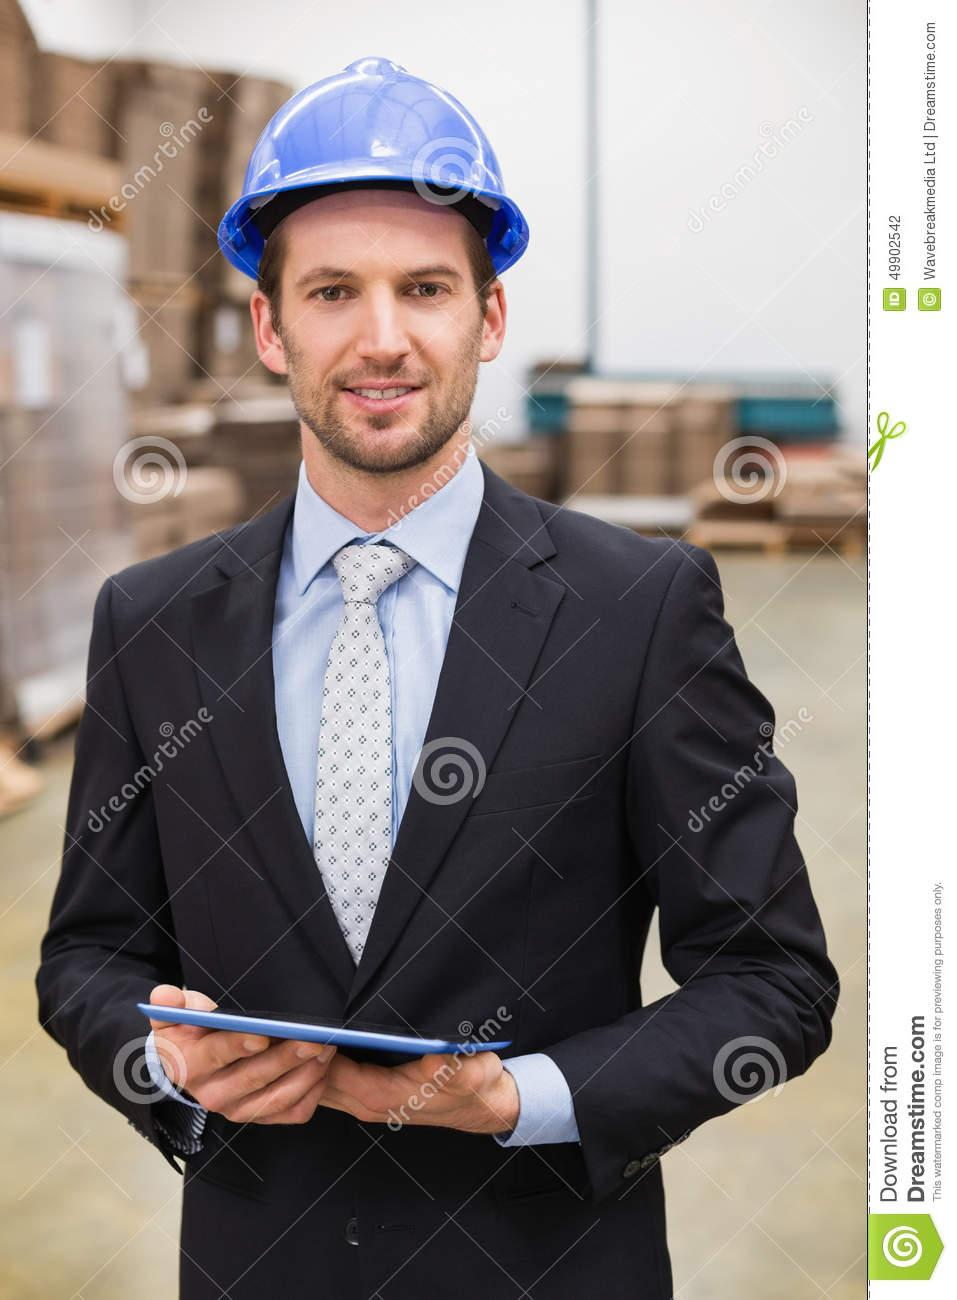helmet: (219, 63, 521, 263)
